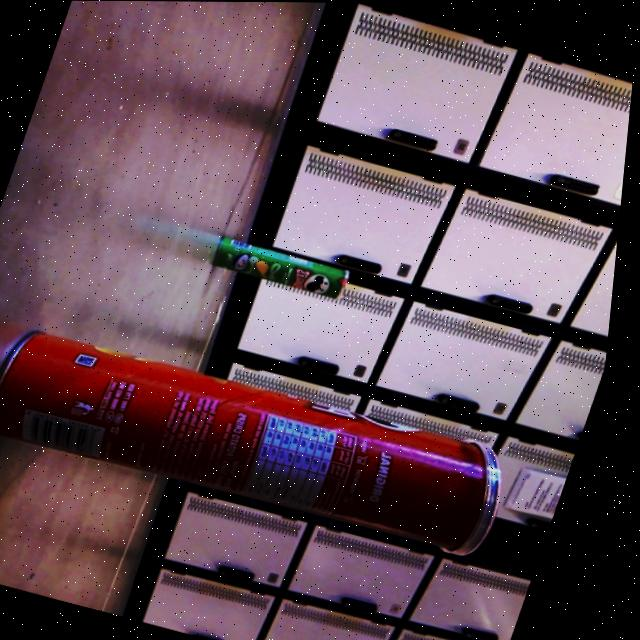greenpringles: (196, 220, 376, 317)
redpringles: (0, 313, 541, 574)
